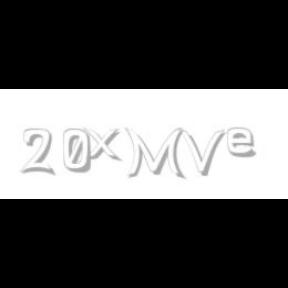0: (64, 128, 94, 174)
2: (20, 128, 54, 176)
M: (124, 128, 184, 180)
V: (178, 128, 226, 176)
e: (228, 128, 260, 158)
x: (83, 128, 125, 162)
